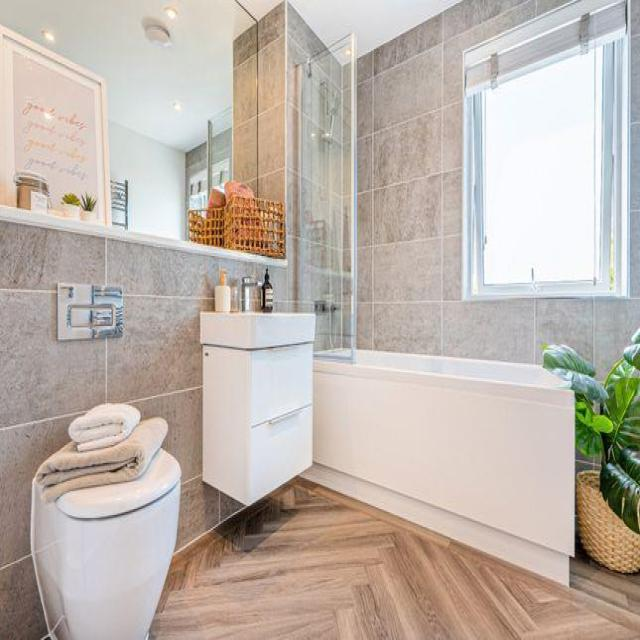Wall: (358, 0, 640, 378), (0, 246, 240, 638), (150, 478, 640, 639), (0, 0, 234, 149), (232, 2, 325, 310), (0, 221, 179, 312), (289, 1, 460, 55), (109, 122, 185, 239), (240, 1, 282, 20), (232, 0, 253, 38)
